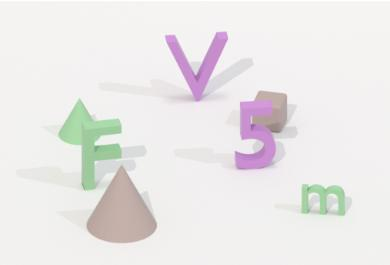0-TamGiac: (85, 165, 162, 247), (56, 94, 102, 146)
5: (232, 98, 279, 171)
F: (77, 117, 126, 193)
V: (161, 27, 232, 106)
m: (297, 178, 351, 220)
